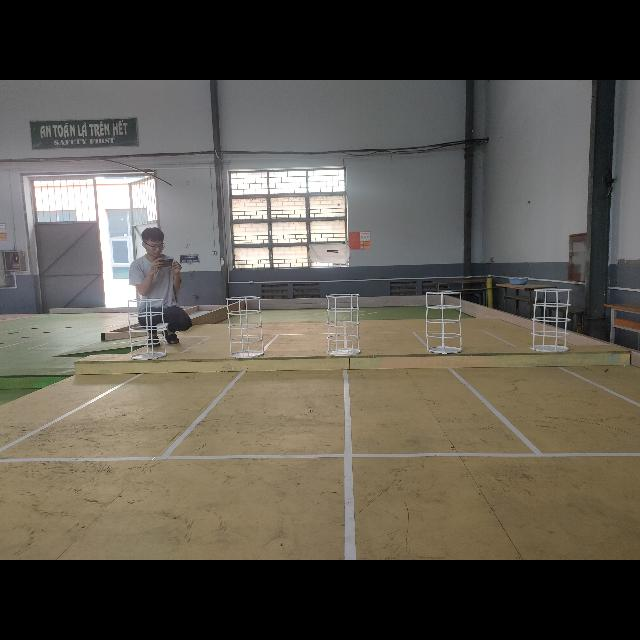S: (531, 286, 572, 354), (128, 298, 168, 361), (226, 296, 265, 359), (426, 291, 464, 354), (326, 294, 360, 357)
